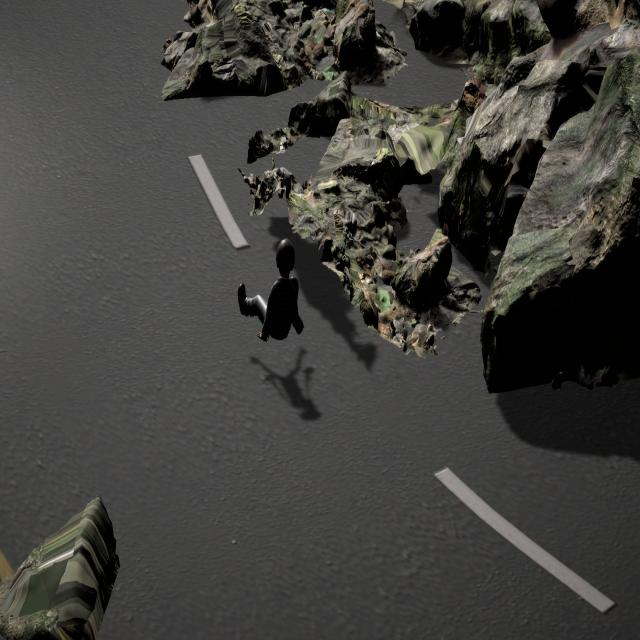Human: (232, 234, 308, 345)
